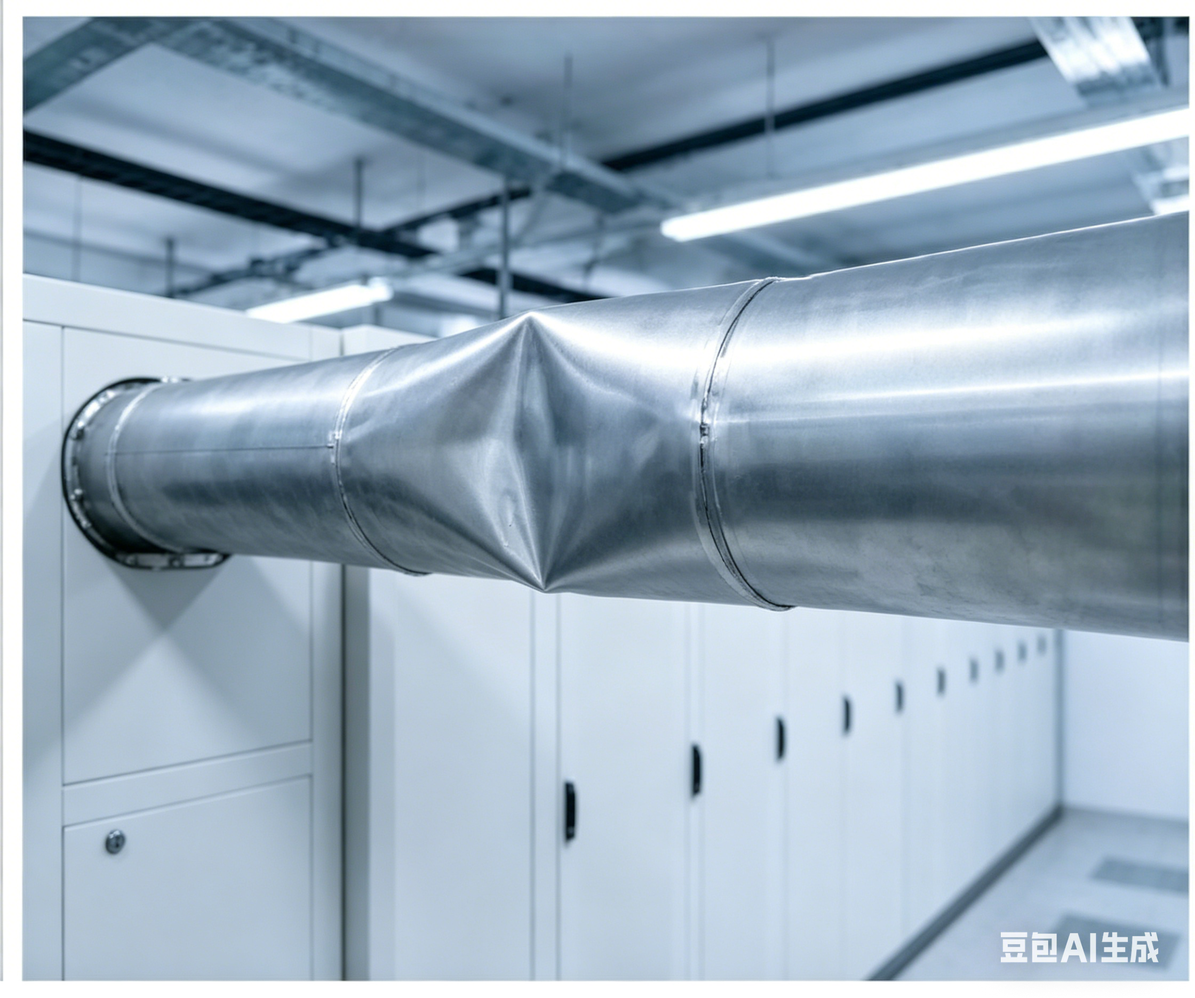Leakage: (396, 308, 686, 600)
